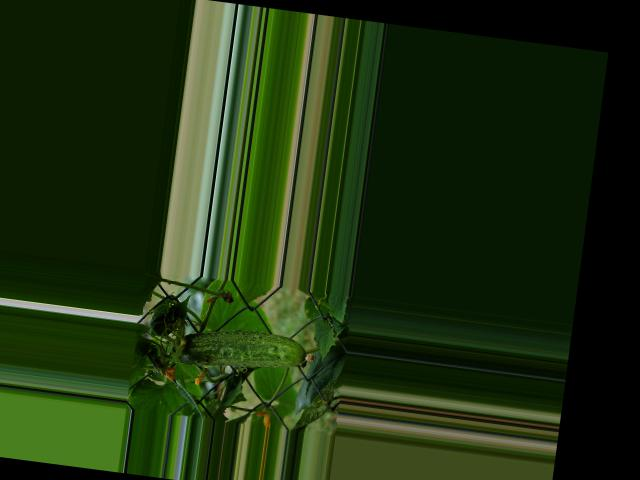cucumber: (171, 321, 315, 379)
